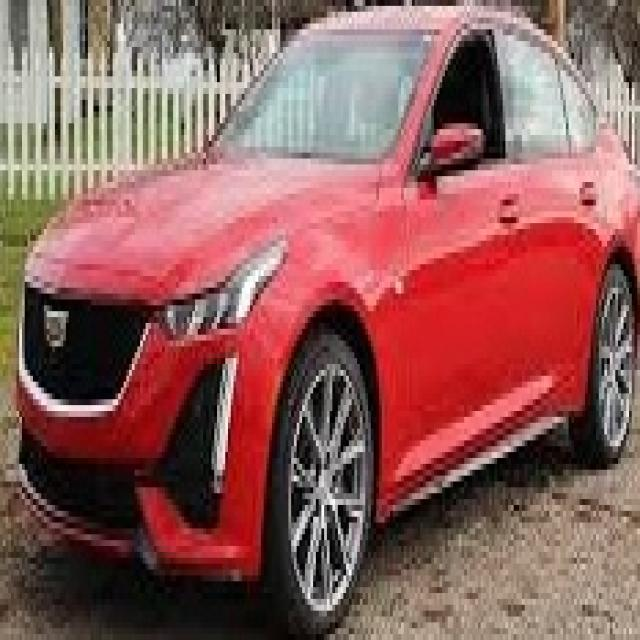red: (7, 10, 640, 581)
